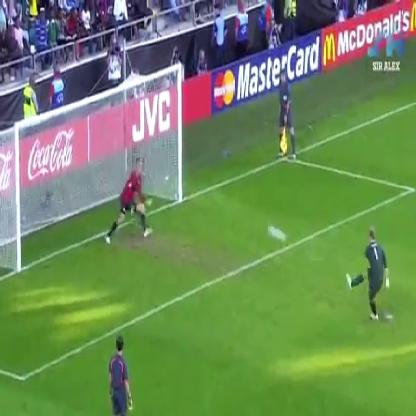penalty kick: (70, 70, 404, 348)
